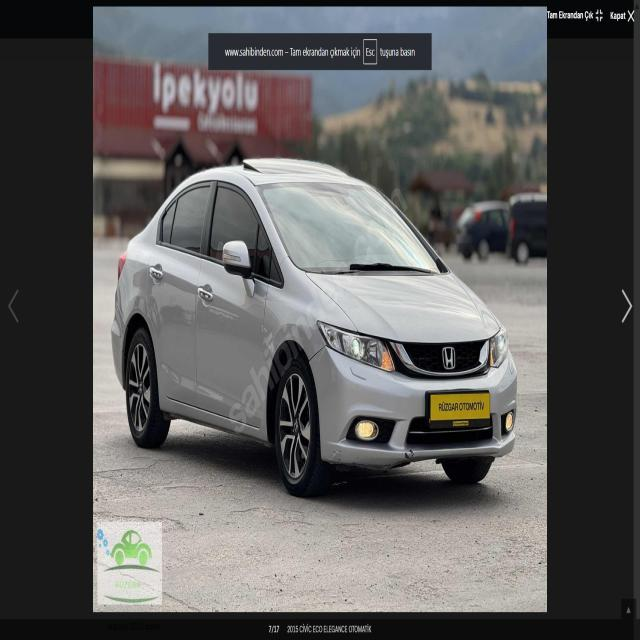honda: (430, 338, 470, 379)
